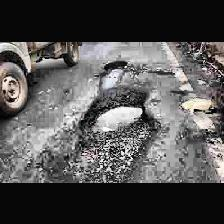pothole: (79, 85, 159, 180), (105, 59, 128, 69)
